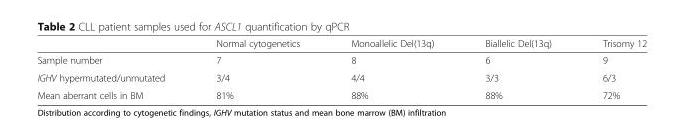table: (36, 37, 646, 100)
table column: (36, 37, 189, 100), (189, 37, 324, 100), (324, 37, 458, 100), (458, 37, 576, 100), (576, 37, 646, 100)
table column header: (36, 37, 646, 51)
table row: (36, 68, 646, 86), (36, 51, 646, 68), (36, 37, 646, 51), (36, 86, 646, 100)
